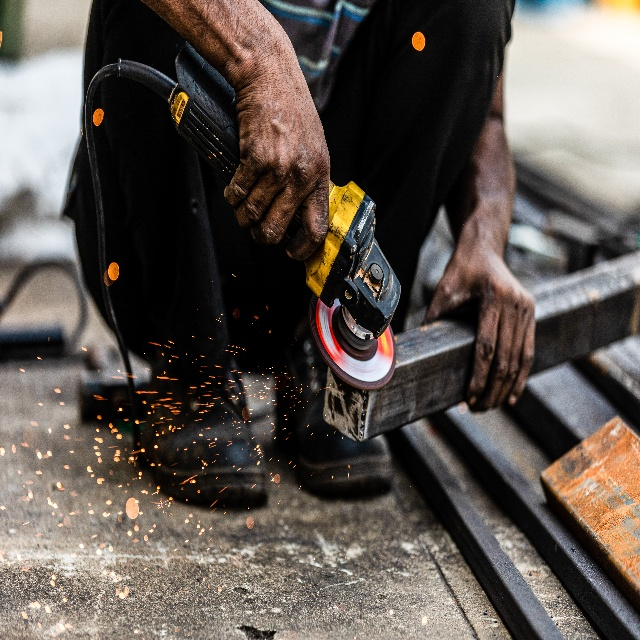Sin_guantes: (222, 79, 330, 263), (421, 246, 537, 409)
